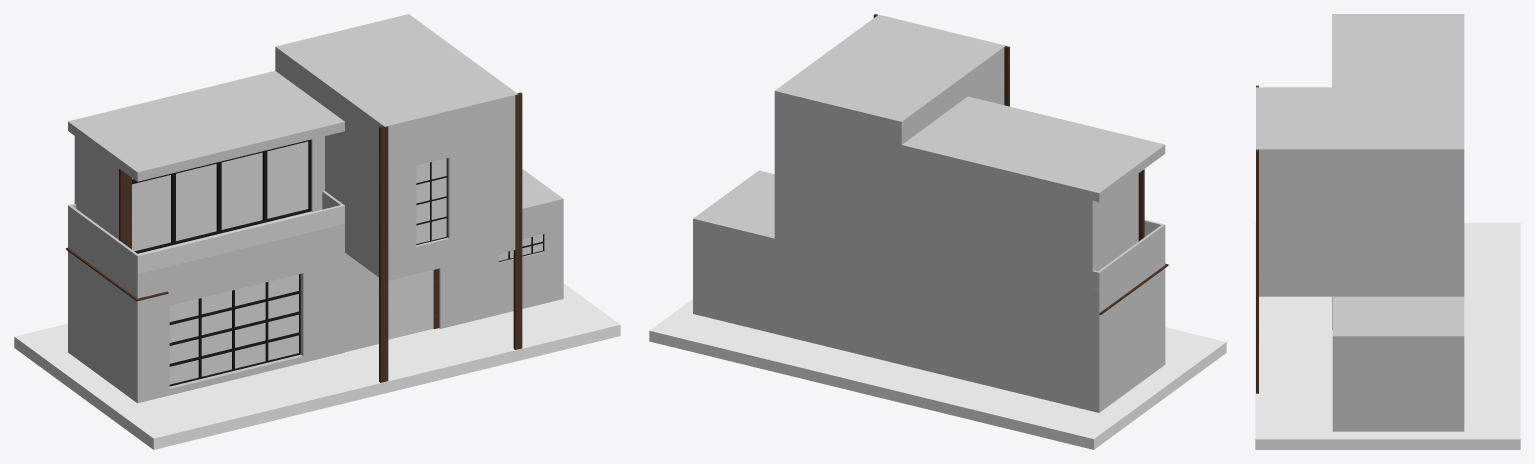
File: House_demo_1.glb
3 views of the same model, side by side, from view 1: azimuth 30°, elevation 25°; view 2: azimuth 150°, elevation 25°; view 3: azimuth 270°, elevation 25° (orthographic). The views are drawn at different scales.
Parts seen in each view (by area): view 1: Cube.007; view 2: Cube.007; view 3: Cube.007.
Part boxes in pixels (<box>): Cube.007: <box>14,14,620,449</box>; Cube.007: <box>649,14,1226,449</box>; Cube.007: <box>1255,14,1520,449</box>.
Bounding box in the file's own units: 17.25 × 9.47 × 8.92.
6 materials, 1 textured.
